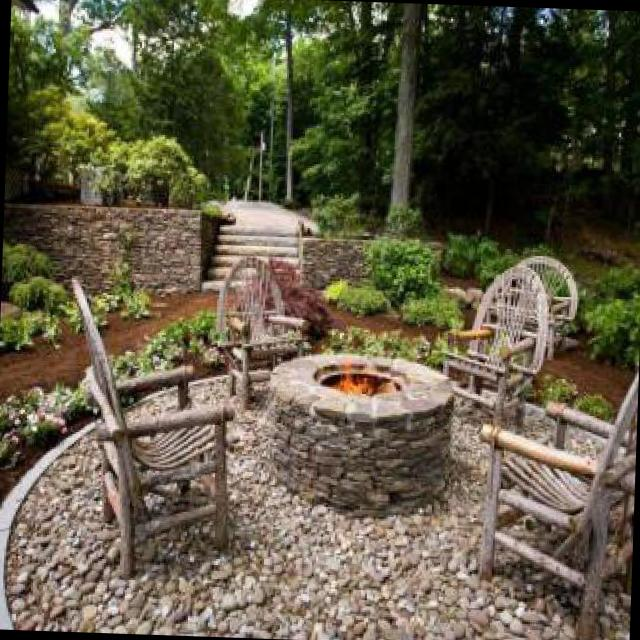Fire: (333, 343, 379, 404)
